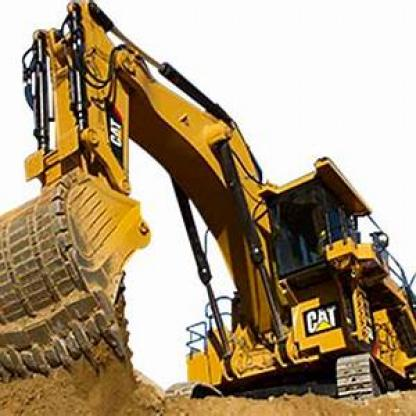excavator: (4, 3, 415, 406)
